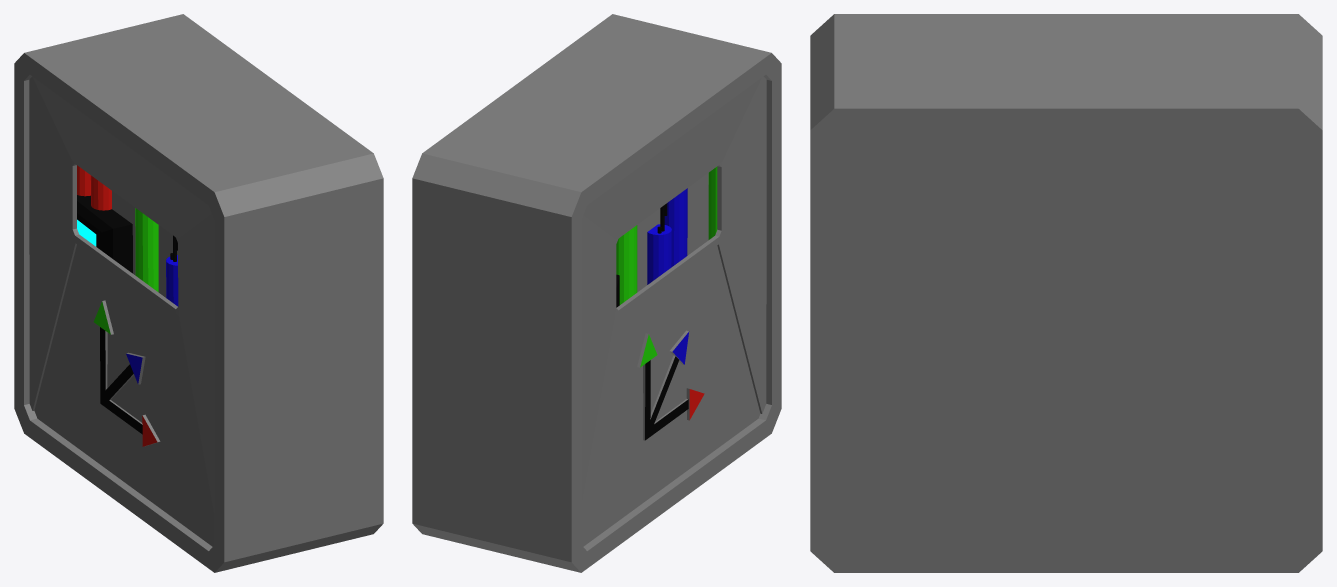
Rendered from power_shell.fbx.
3 views of the same model, side by side, from view 1: azimuth 30°, elevation 25°; view 2: azimuth 150°, elevation 25°; view 3: azimuth 270°, elevation 25° (orthographic). The views are drawn at different scales.
Parts seen in each view (by area): view 1: ElectricalPanel, Cover, Cube_1, Cabel_6, Cabel_2, Cabel_8; view 2: ElectricalPanel, Cover, Cabel_6, Cabel_9, Cabel_8, Cabel_10; view 3: ElectricalPanel.
Part boxes in pixels (x1,y1,x2,y2): ElectricalPanel: [14, 14, 383, 572]; Cover: [29, 76, 214, 546]; Cube_1: [77, 195, 132, 273]; Cabel_6: [135, 208, 158, 292]; Cabel_2: [90, 175, 111, 210]; Cabel_8: [166, 255, 178, 306]; ElectricalPanel: [412, 14, 781, 572]; Cover: [581, 76, 766, 546]; Cabel_6: [616, 225, 637, 304]; Cabel_9: [664, 188, 687, 266]; Cabel_8: [647, 224, 671, 284]; Cabel_10: [708, 166, 717, 239]; ElectricalPanel: [810, 14, 1322, 572].
Size of the model in its own units: 63.46 by 145 by 145.
